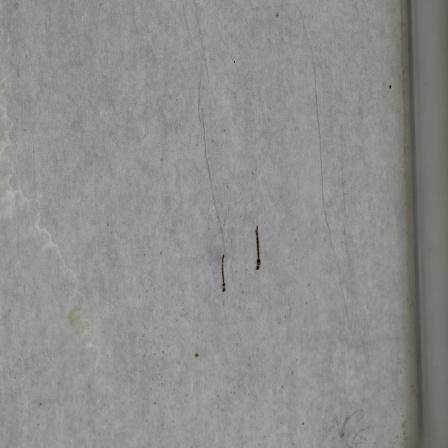Jentik-Nyamuk: (251, 224, 265, 272)
